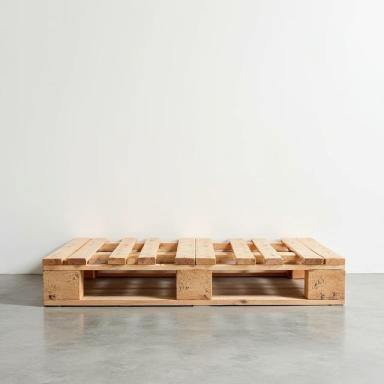pallet: (43, 237, 345, 306), (80, 277, 176, 300), (212, 274, 304, 295)
